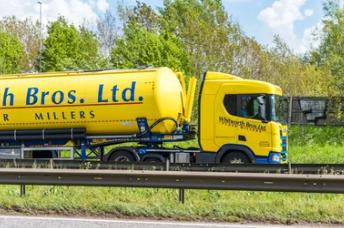vehicle: (0, 67, 290, 164)
